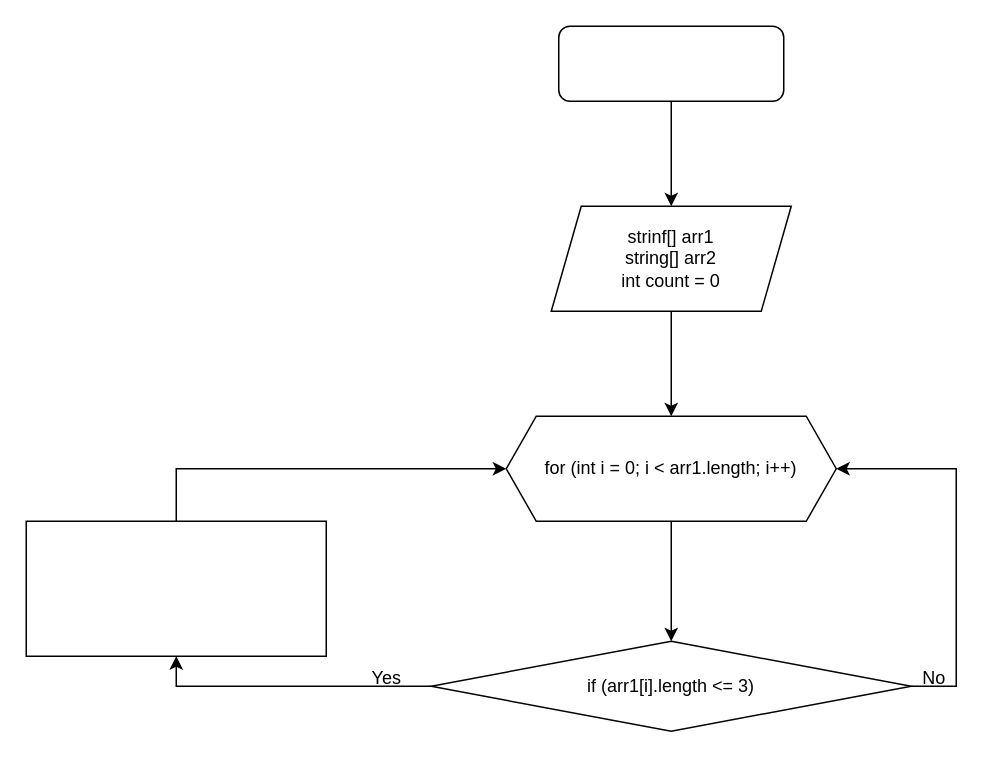
Image size: 995x758. Some labels were removed from this diagram. Here are the shapes that lost their labels. From the top down, the centre of each, then its label:
At point 670,63: "SecondArray".
At point 175,588: "arr2[count] = arr1[i] count++;".
